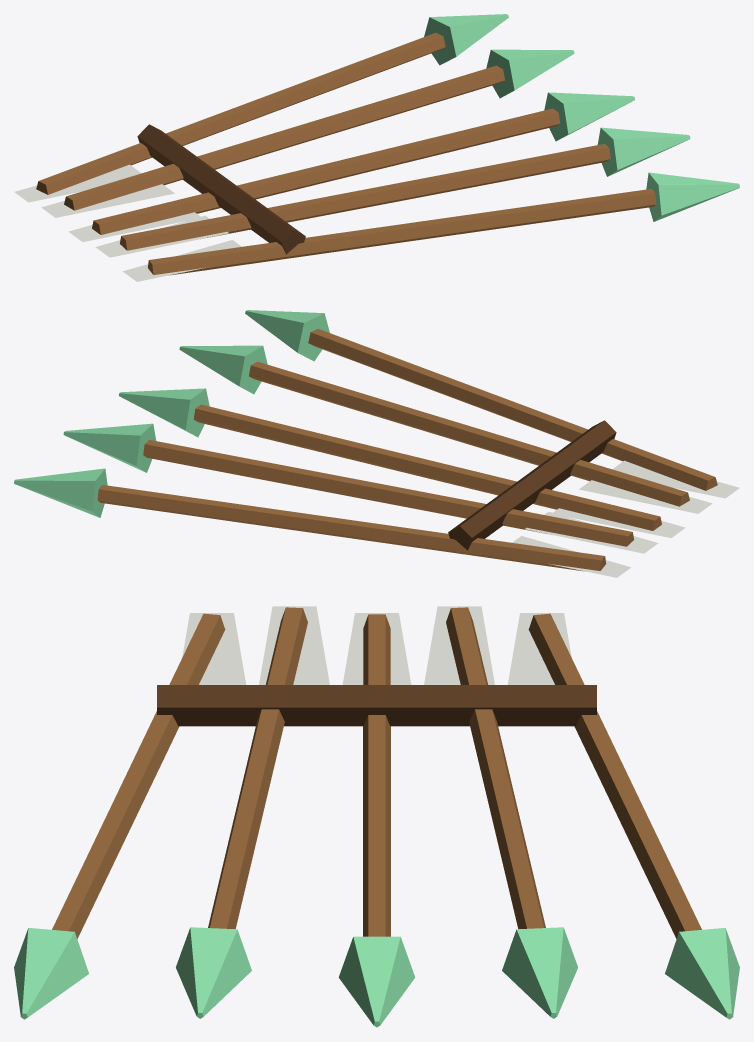
Rendered from drop_adamant_arrows.glb.
3 views of the same model, one above another, from view 1: azimuth 30°, elevation 25°; view 2: azimuth 150°, elevation 25°; view 3: azimuth 270°, elevation 25° (orthographic). The views are drawn at different scales.
Parts seen in each view (by area): view 1: drop_adamant_arrows; view 2: drop_adamant_arrows; view 3: drop_adamant_arrows.
Part boxes in pixels (<box>): drop_adamant_arrows: <box>14,14,739,281</box>; drop_adamant_arrows: <box>14,310,739,577</box>; drop_adamant_arrows: <box>14,606,739,1027</box>.
Bounding box in the file's own units: 0.535 × 0.0438 × 0.3958.
